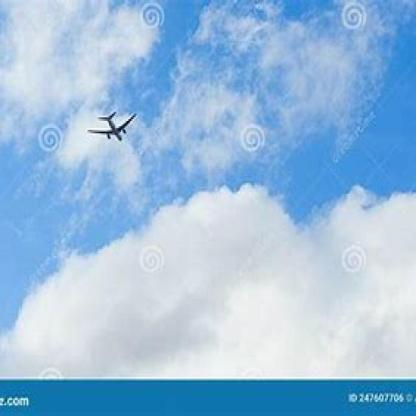plane: (84, 102, 140, 151)
